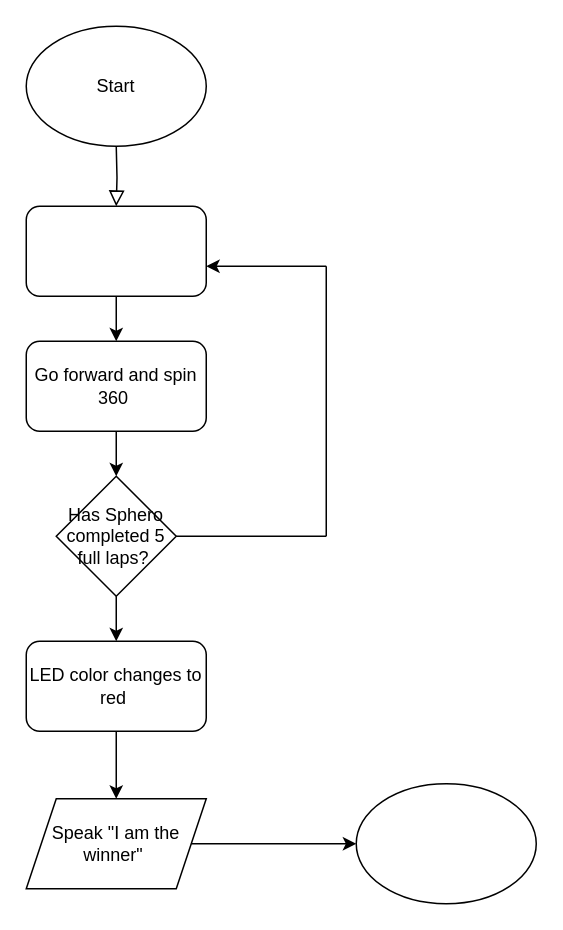
Image size: 563x930. Some labels were removed from this diagram. The box of each missing label's shape, as (x1, y1, x2, y2) in pixels:
Finish/End: (355, 782, 536, 904)
Go forward and spin -360: (25, 205, 206, 296)
